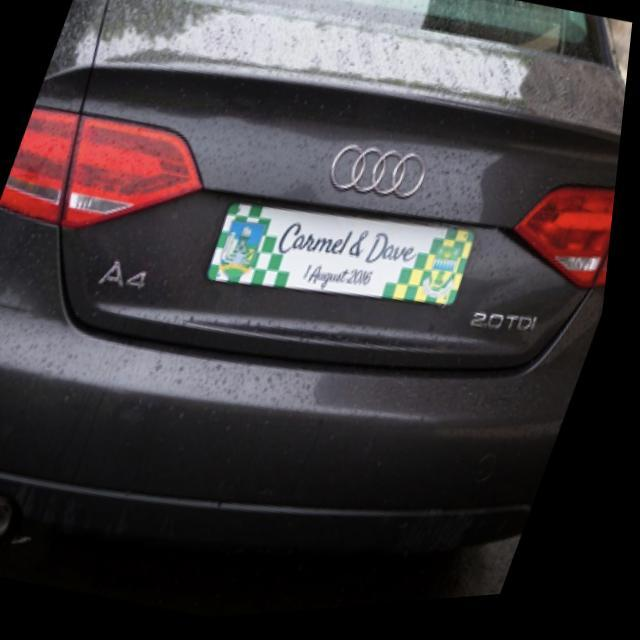license_plate: (208, 188, 476, 333)
